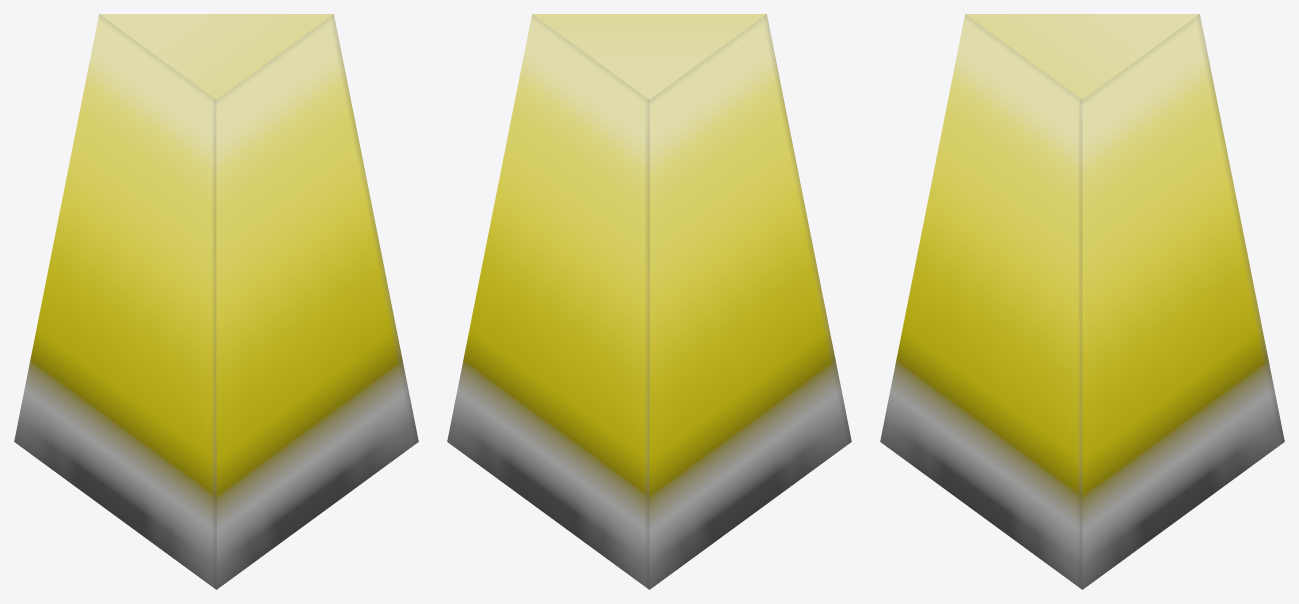
File: runwaylight.glb
The picture shows the model from 3 angles, left to right: view 1: azimuth 30°, elevation 25°; view 2: azimuth 150°, elevation 25°; view 3: azimuth 270°, elevation 25°; orthographic projection.
Visible parts, largest first — view 1: Redbeaconlight03; view 2: Redbeaconlight03; view 3: Redbeaconlight03.
Boxes of the visible parts, left/top/right/bottom form: Redbeaconlight03: left=14, top=14, right=418, bottom=589; Redbeaconlight03: left=447, top=14, right=851, bottom=589; Redbeaconlight03: left=880, top=14, right=1284, bottom=589.
Bounding box in the file's own units: 0.4029 × 0.569 × 0.4653.
1 material, 1 textured.
